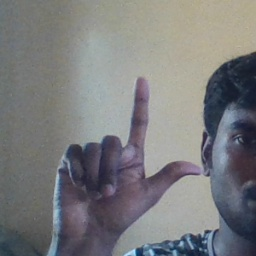L: (49, 76, 206, 242)
